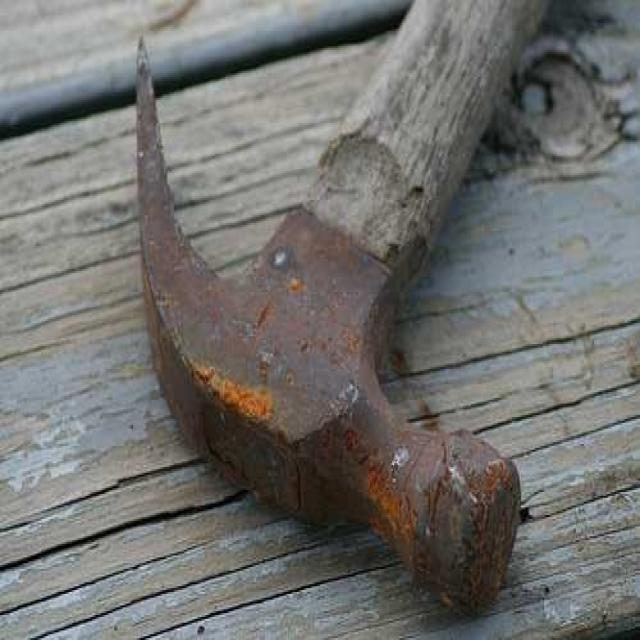hammer: (135, 0, 554, 616)
